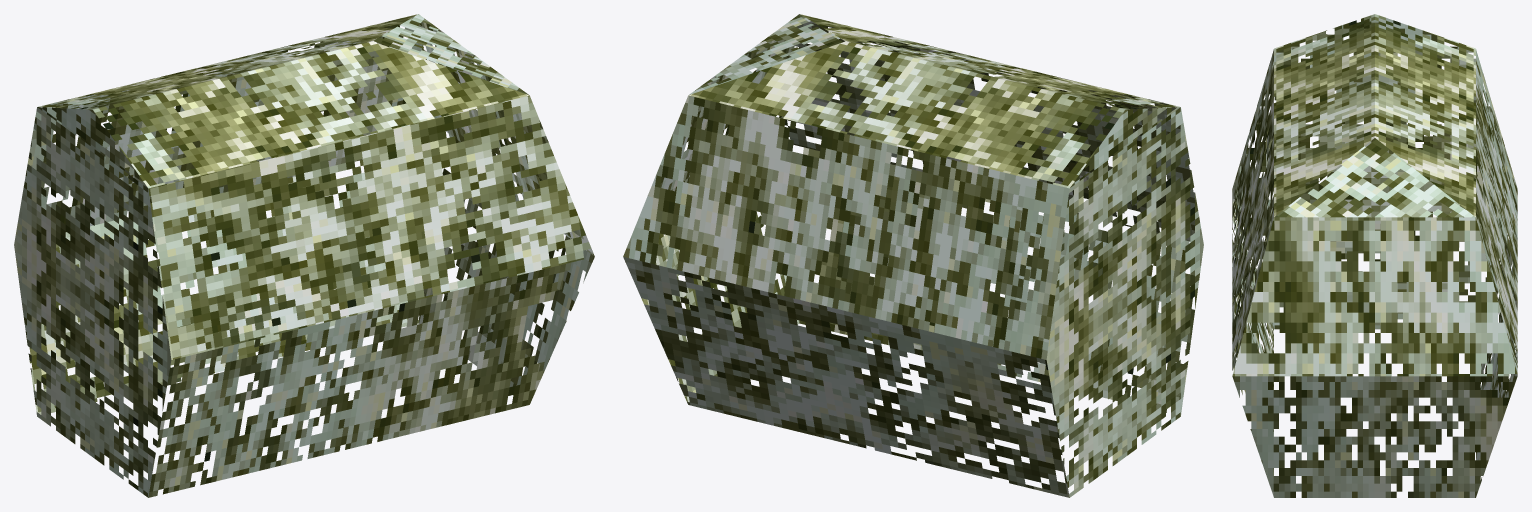
File: bush_long_half_open_right_winter.glb
The picture shows the model from 3 angles, left to right: view 1: azimuth 30°, elevation 25°; view 2: azimuth 150°, elevation 25°; view 3: azimuth 270°, elevation 25°; orthographic projection. The views are drawn at different scales.
Visible parts, largest first — view 1: bush_long_half_open_right_winter; view 2: bush_long_half_open_right_winter; view 3: bush_long_half_open_right_winter.
Boxes of the visible parts, x1,y1,x2,y2 form: bush_long_half_open_right_winter: [14, 14, 594, 497]; bush_long_half_open_right_winter: [623, 14, 1203, 497]; bush_long_half_open_right_winter: [1232, 14, 1517, 497].
Bounding box in the file's own units: 1.12 × 0.8765 × 0.7191.
1 material, 1 textured.
